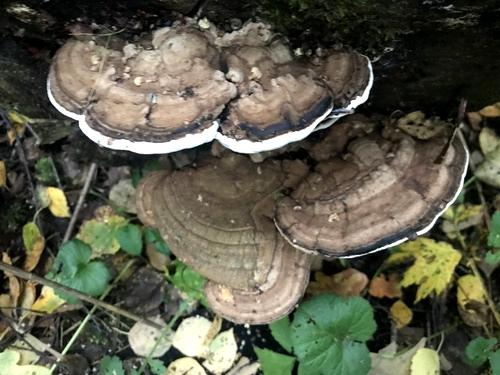Ganoderma - Fruit Body: (43, 14, 372, 155), (142, 169, 318, 322), (328, 125, 468, 259)
